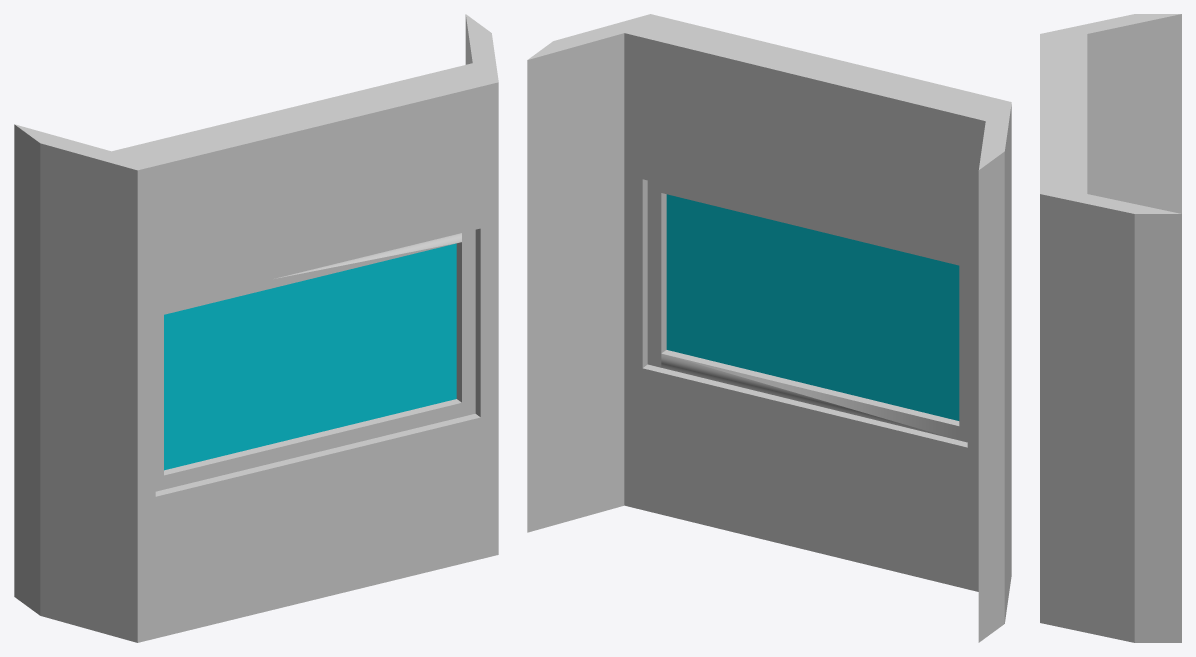
File: window_bay_4.glb
3 views of the same model, side by side, from view 1: azimuth 30°, elevation 25°; view 2: azimuth 150°, elevation 25°; view 3: azimuth 270°, elevation 25° (orthographic). The views are drawn at different scales.
Visible parts, largest first — view 1: window_bay_4; view 2: window_bay_4; view 3: window_bay_4.
Boxes of the visible parts, box(x1,y1,x2,y2) form: window_bay_4: box(14, 14, 498, 642); window_bay_4: box(527, 14, 1011, 642); window_bay_4: box(1040, 14, 1181, 642).
Bounding box in the file's own units: 1 × 1 × 0.3.
